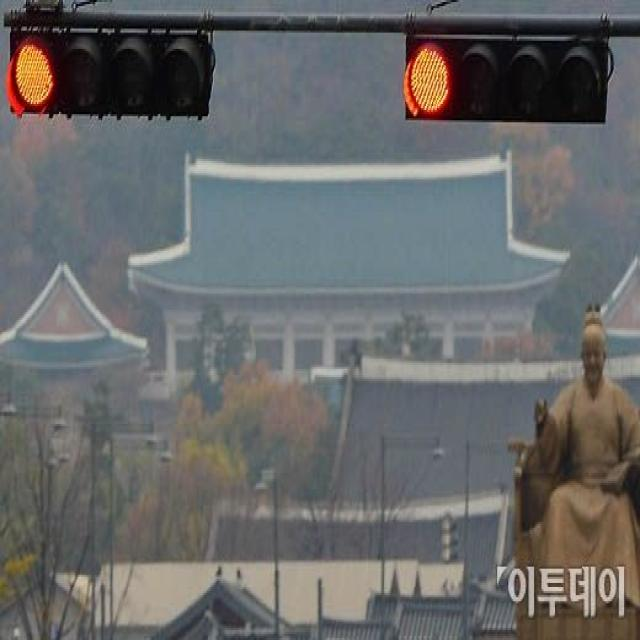red_light: (6, 22, 213, 124), (404, 37, 610, 125)
